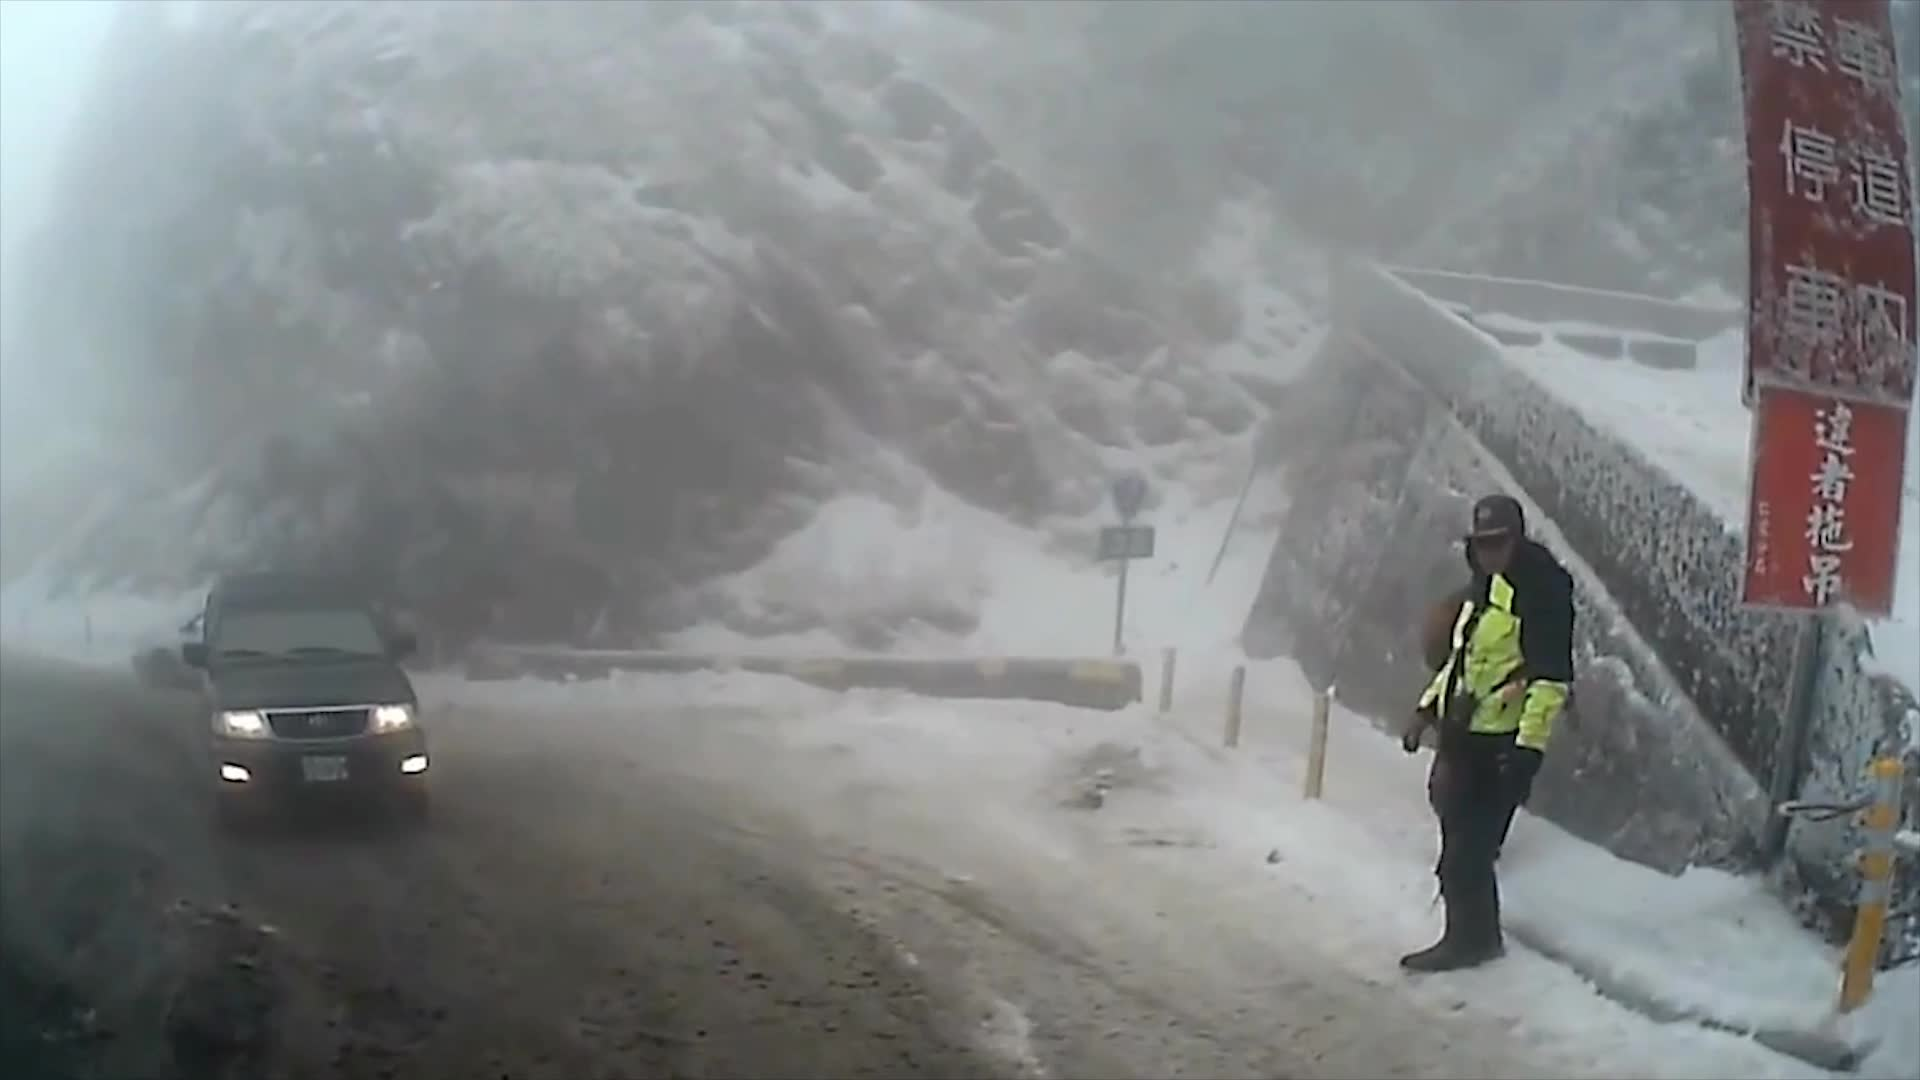pedestrian: (1399, 499, 1581, 980)
vehicle: (181, 571, 433, 831)
